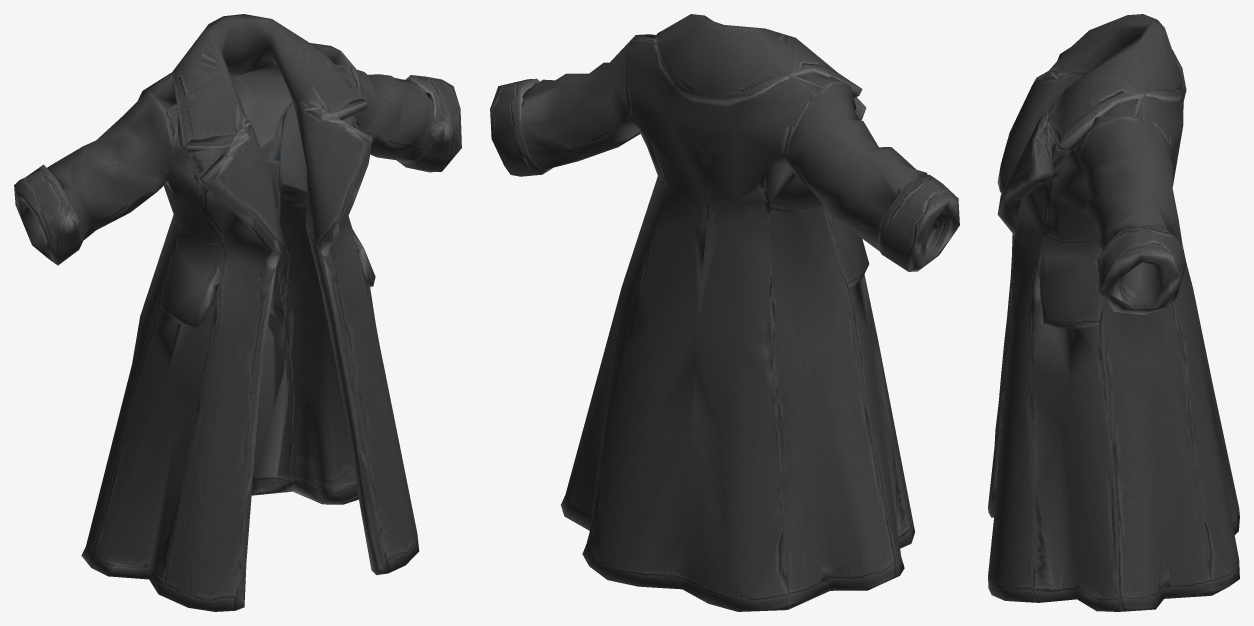
Rendered from duster.glb.
The picture shows the model from 3 angles, left to right: view 1: azimuth 30°, elevation 25°; view 2: azimuth 150°, elevation 25°; view 3: azimuth 270°, elevation 25°; orthographic projection. The views are drawn at different scales.
Parts seen in each view (by area): view 1: Mesh_0; view 2: Mesh_0; view 3: Mesh_0.
Part boxes in pixels (bbox=[...]): Mesh_0: bbox=[14, 14, 461, 611]; Mesh_0: bbox=[490, 14, 959, 611]; Mesh_0: bbox=[988, 14, 1239, 611].
Size of the model in its own units: 15.71 by 17.99 by 7.81.
1 material, 1 textured.
